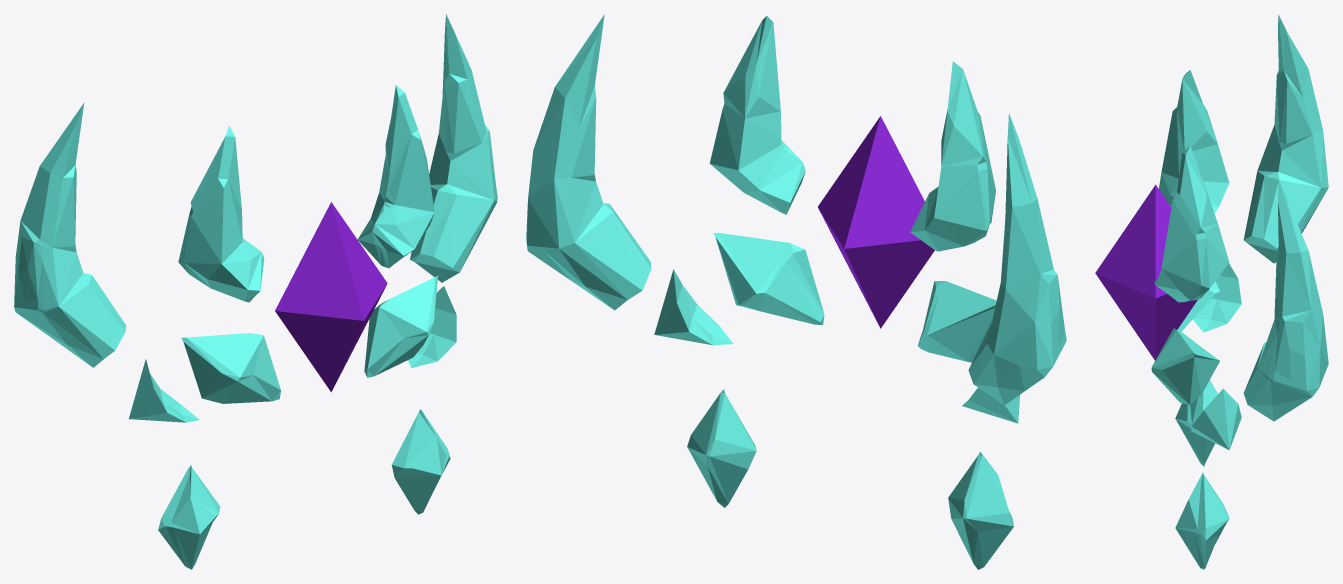
File: mdlSuperIceCrown.fbx
3 renders of one model, left to right at view 1: azimuth 30°, elevation 25°; view 2: azimuth 150°, elevation 25°; view 3: azimuth 270°, elevation 25°, orthographic. The views are drawn at different scales.
Visible parts, largest first — view 1: mdlSuperIceCrown; view 2: mdlSuperIceCrown; view 3: mdlSuperIceCrown.
Part boxes in pixels (<box>): mdlSuperIceCrown: <box>14,14,497,569</box>; mdlSuperIceCrown: <box>526,14,1066,569</box>; mdlSuperIceCrown: <box>1095,14,1328,569</box>.
Bounding box in the file's own units: 1.47 × 1.36 × 0.6808.
